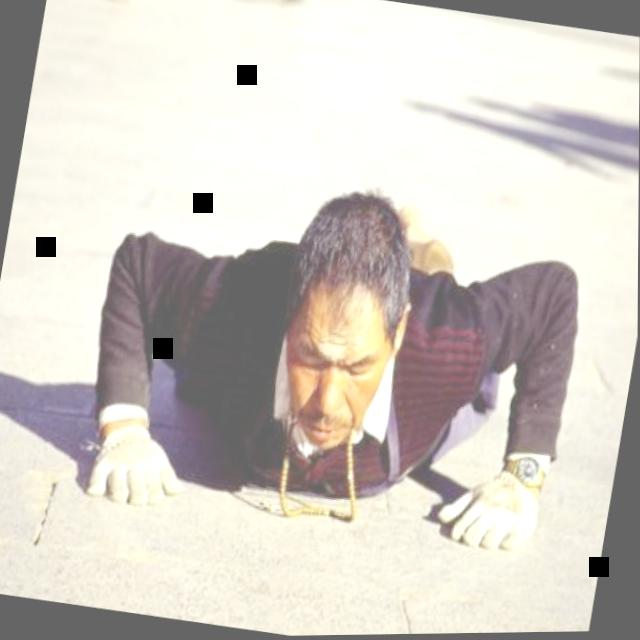Fall-Detected: (55, 94, 603, 595)
